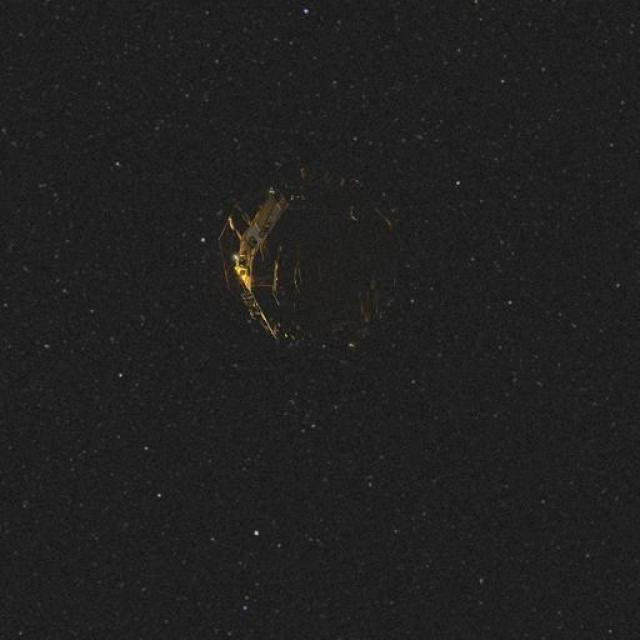lisa_pathfinder: (196, 146, 420, 360)
